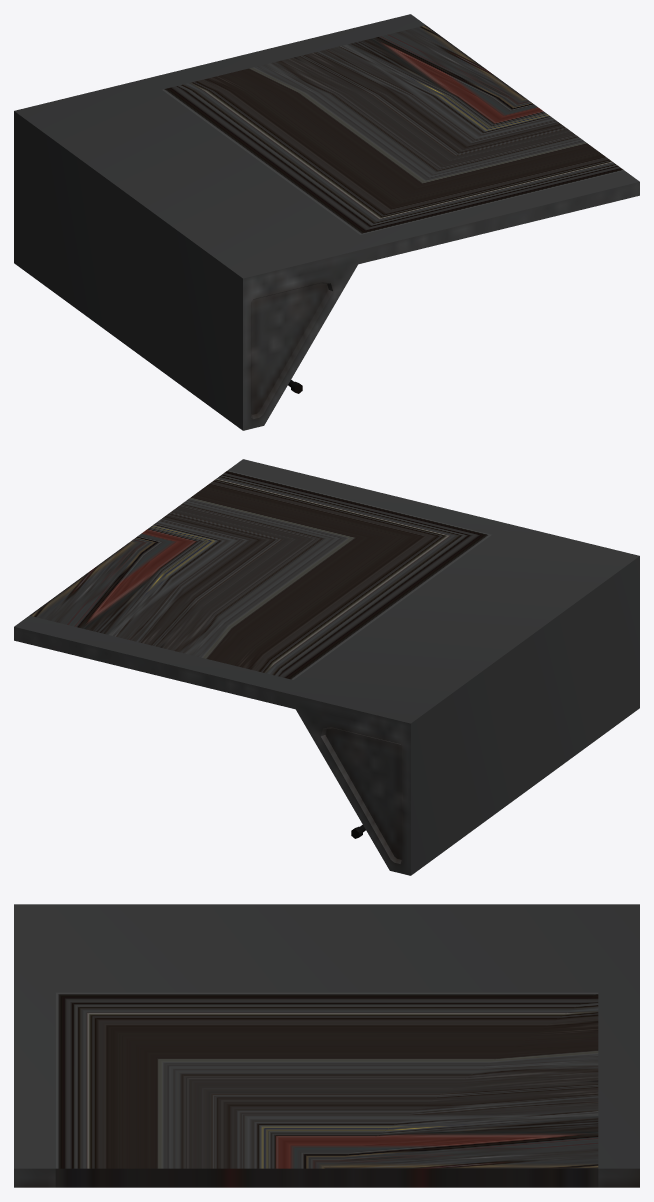
Rendered from Ceiling_07.FBX.
3 renders of one model, top to bottom at view 1: azimuth 30°, elevation 25°; view 2: azimuth 150°, elevation 25°; view 3: azimuth 270°, elevation 25°, orthographic. The views are drawn at different scales.
Visible parts, largest first — view 1: Ceiling_07; view 2: Ceiling_07; view 3: Ceiling_07.
Boxes of the visible parts, x1,y1,x2,y2 form: Ceiling_07: (14,14,639,430); Ceiling_07: (14,459,639,875); Ceiling_07: (14,904,639,1187).
Size of the model in its own units: 300 by 111 by 300.
